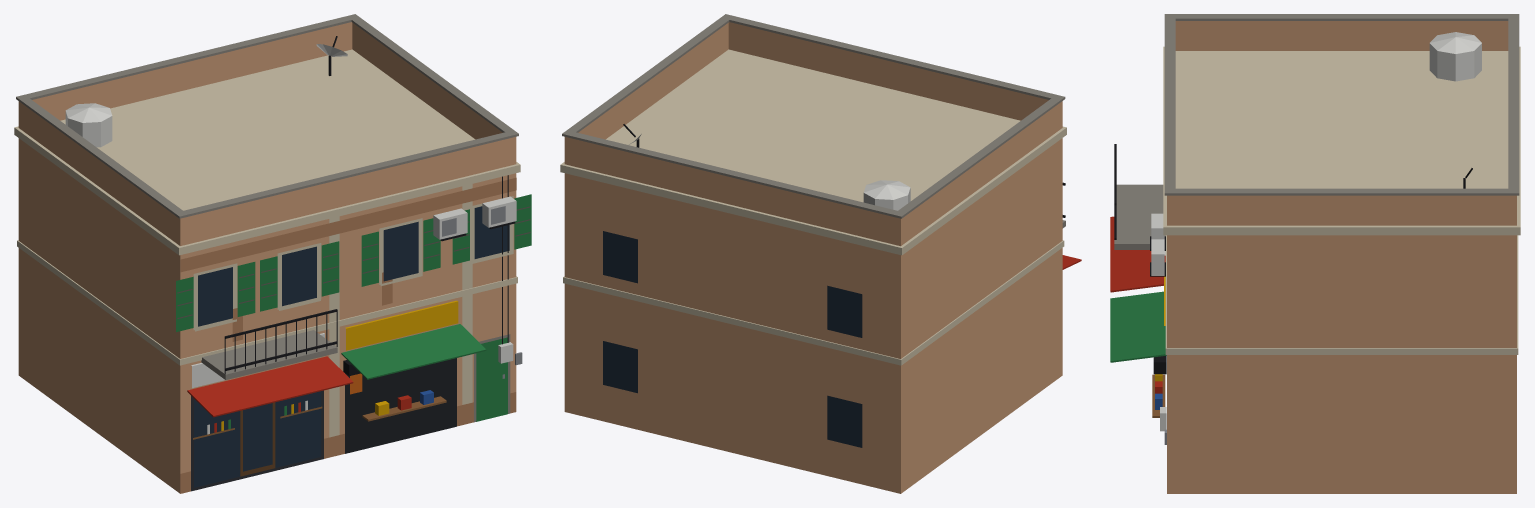
Rendered from building_castel-row_a.glb.
3 renders of one model, left to right at view 1: azimuth 30°, elevation 25°; view 2: azimuth 150°, elevation 25°; view 3: azimuth 270°, elevation 25°, orthographic. The views are drawn at different scales.
Visible parts, largest first — view 1: body; view 2: body; view 3: body.
Part boxes in pixels (x1,y1,x2,y2): body: (14,14,531,493); body: (560,14,1081,493); body: (1110,14,1520,493).
Bounding box in the file's own units: 10.16 × 7.71 × 9.37.
